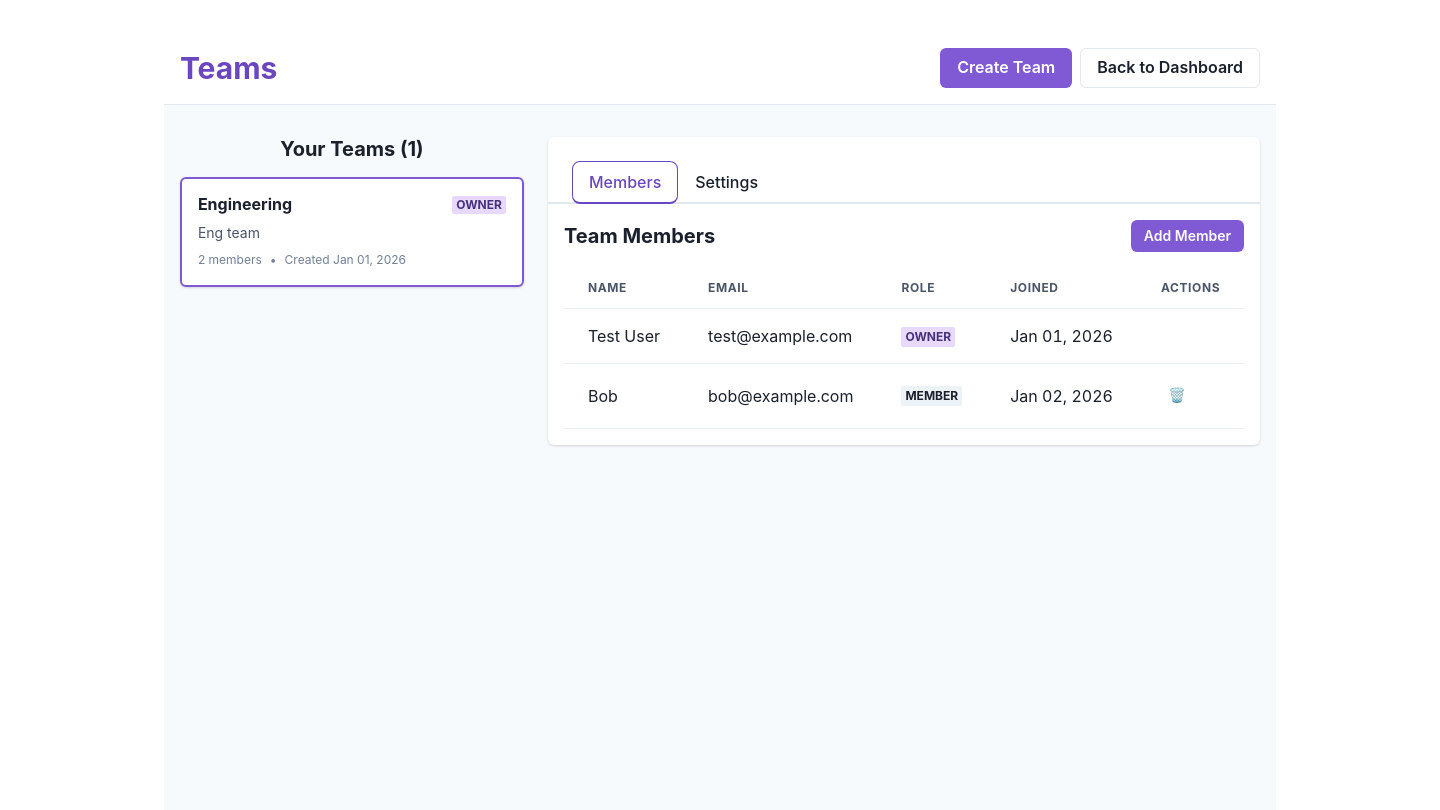
Teams page › removes a member from the selected team
This screenshot has width=1440, height=810.
Click the button named "Remove member" at (1177, 396), box [1161,380,1193,412]
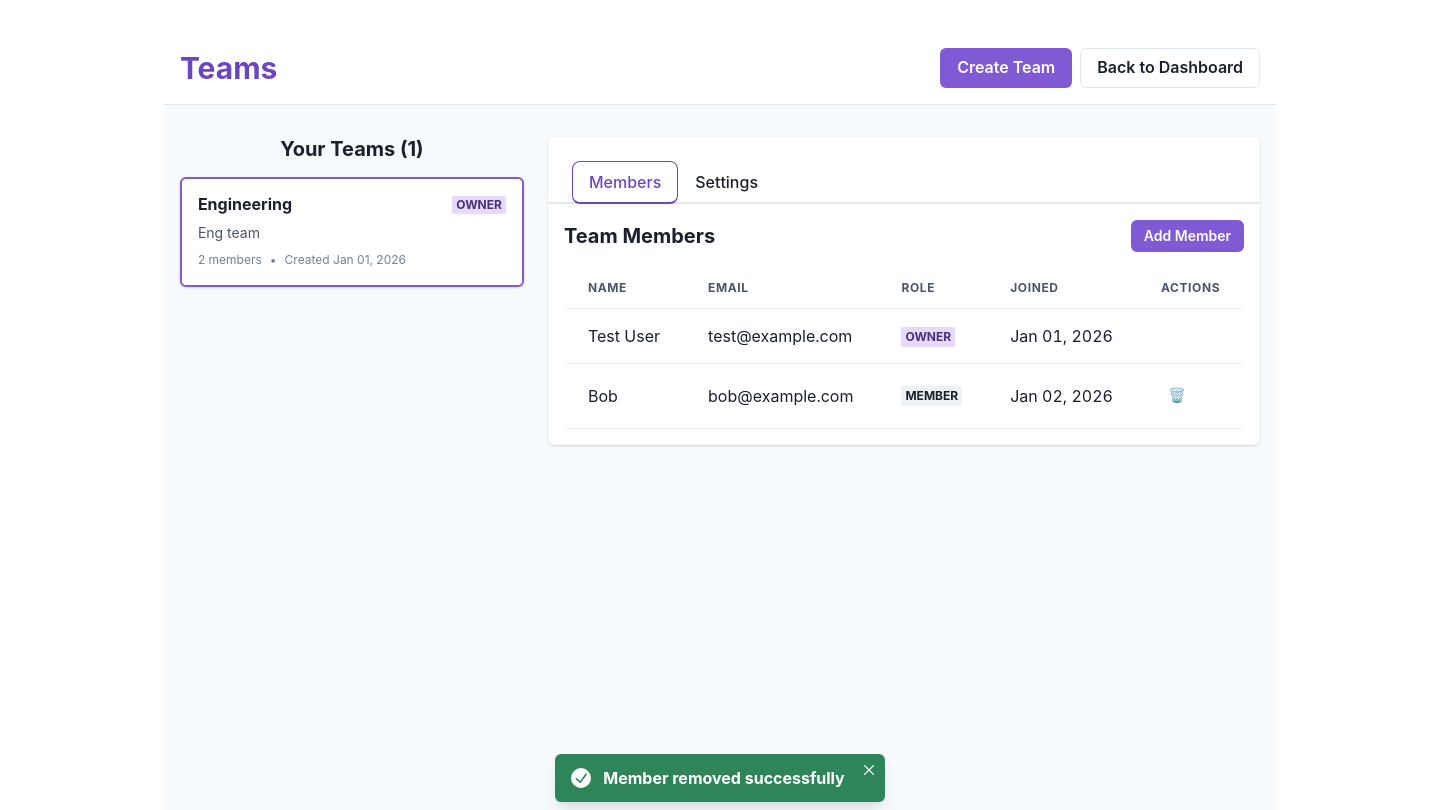
Expected: the text "Member removed successfully" is shown, [603,766,845,790]
